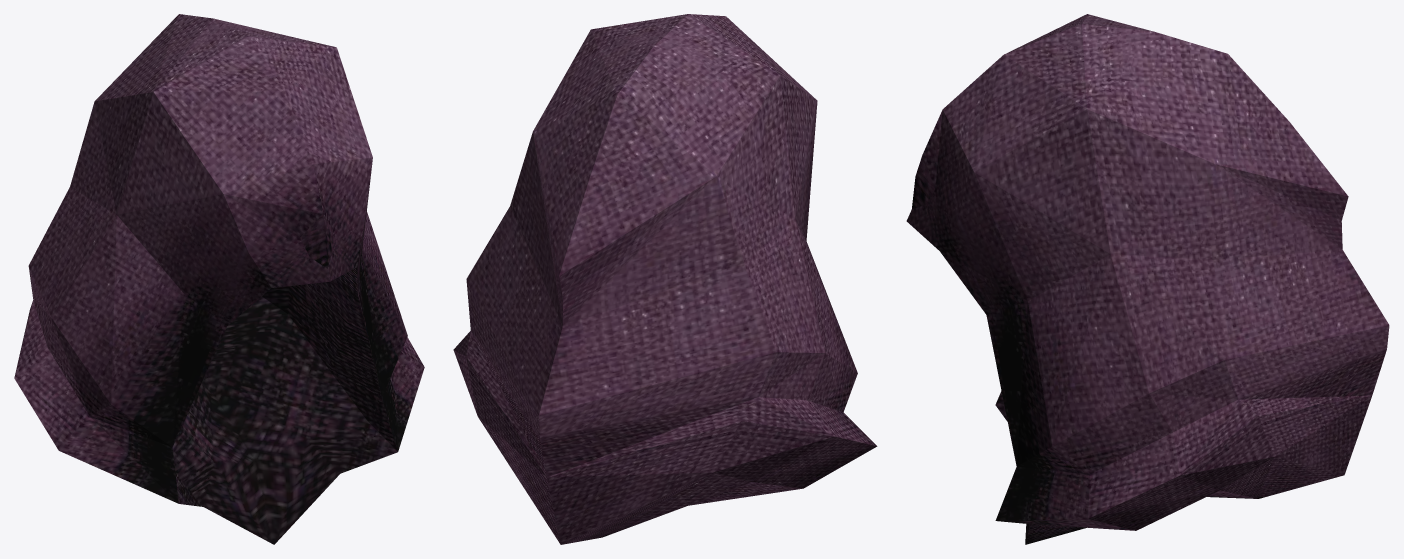
File: HUM_HELM_2ROZ.glb
The picture shows the model from 3 angles, left to right: view 1: azimuth 30°, elevation 25°; view 2: azimuth 150°, elevation 25°; view 3: azimuth 270°, elevation 25°; orthographic projection. The views are drawn at different scales.
Parts seen in each view (by area): view 1: HUM_HELM_2ROZ; view 2: HUM_HELM_2ROZ; view 3: HUM_HELM_2ROZ.
Part boxes in pixels (bbox=[...]): HUM_HELM_2ROZ: bbox=[14, 14, 424, 544]; HUM_HELM_2ROZ: bbox=[453, 14, 877, 544]; HUM_HELM_2ROZ: bbox=[906, 14, 1389, 544].
Size of the model in its own units: 0.3241 by 0.4106 by 0.345.
Materials: 1 (1 with a texture image).
